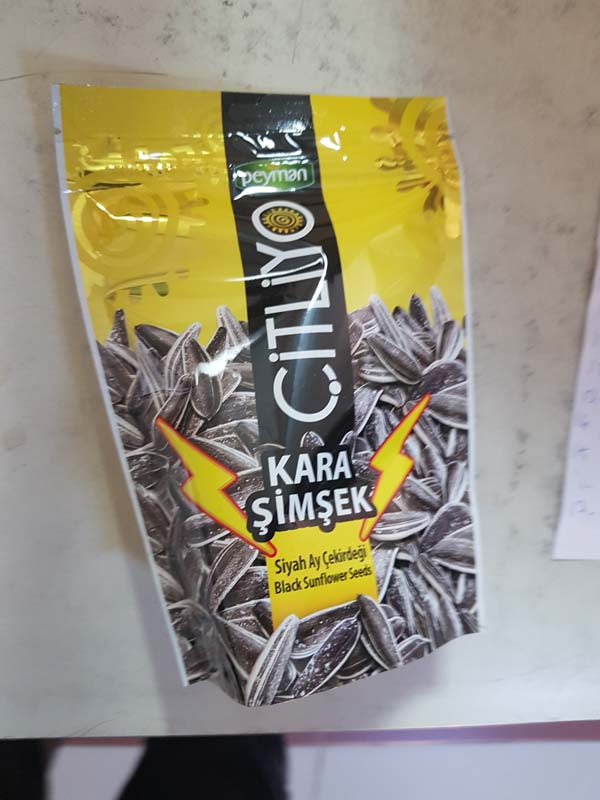citliyokarasimsek: (46, 75, 493, 713)
